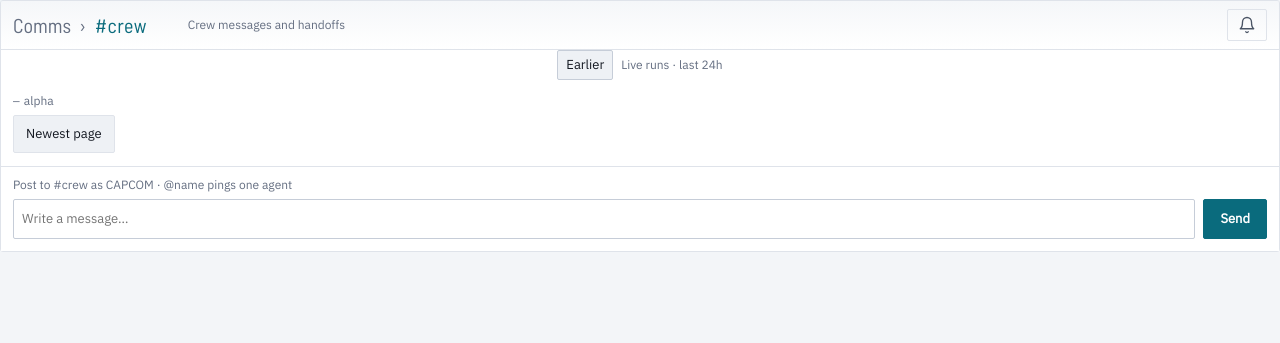
Scenario: Comms routes › loads older messages above the newest page, and drops the control when none remain
Expected: the text "Newest page" is shown, [13,115,115,153]
Expected: the text "From the page before" is not shown
Click the button "Earlier" at [585, 65], box [557,50,613,80]
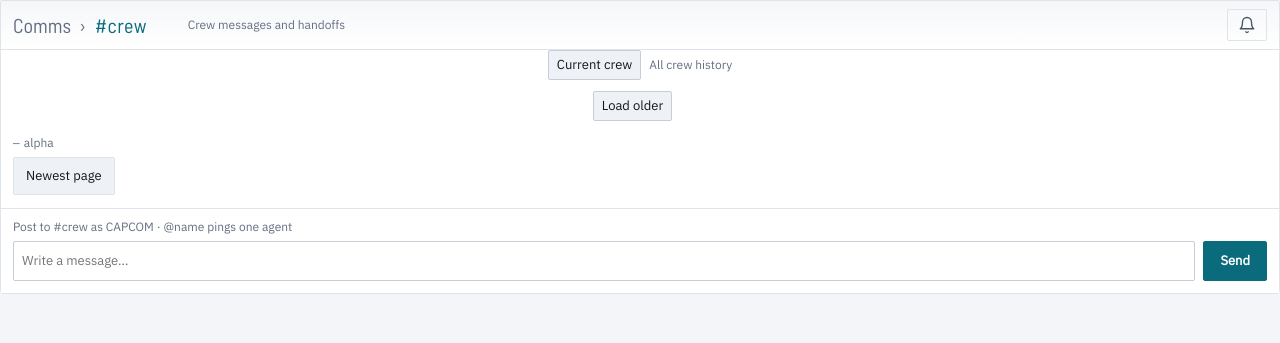
Click the button "Load older" at [633, 106], box [593,91,672,121]
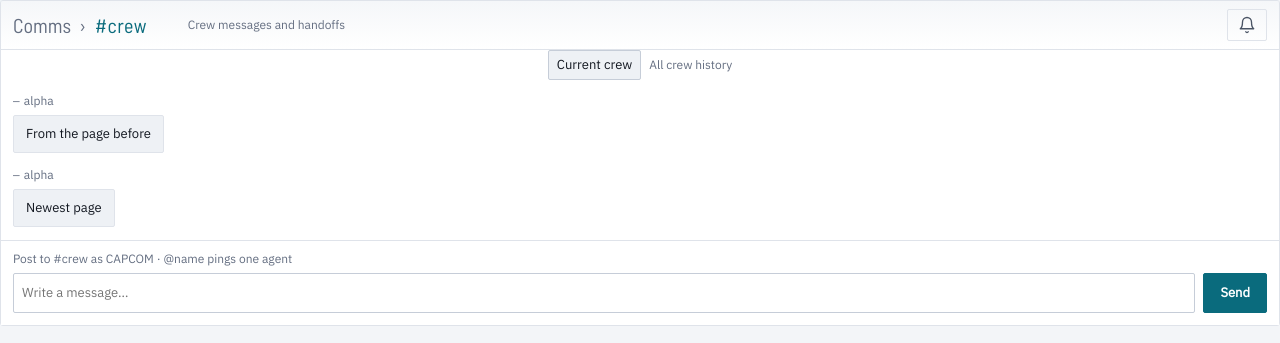
Expected: the text "From the page before" is shown, [13,115,164,153]
Expected: the element with class "comms-bubble" shows "From the page before", [26,125,151,142]
Expected: the button "Load older" is gone
